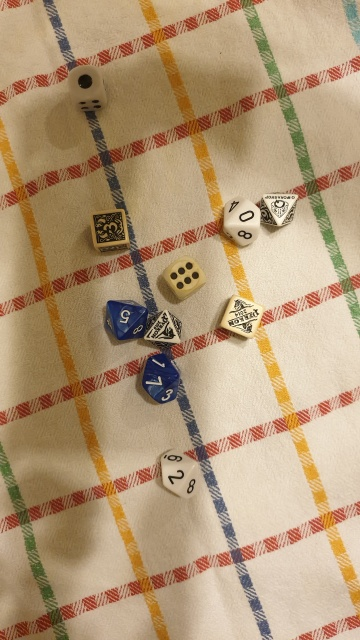d10-10: (215, 188, 260, 250)
d10-2: (152, 440, 200, 504)
d10-5: (98, 294, 147, 346)
d10-7: (131, 348, 181, 409)
d6-1: (64, 60, 110, 113)
d6-6: (160, 251, 208, 304)
d6p-1: (213, 289, 266, 346)
d6p-3: (85, 205, 131, 254)
d8p-1: (140, 306, 185, 350)
d8p-8: (256, 187, 303, 233)
